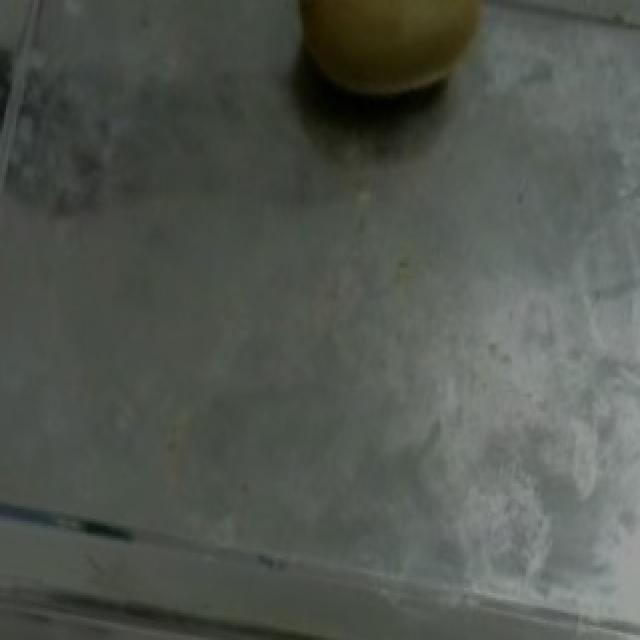Fruit: (260, 0, 514, 122)
